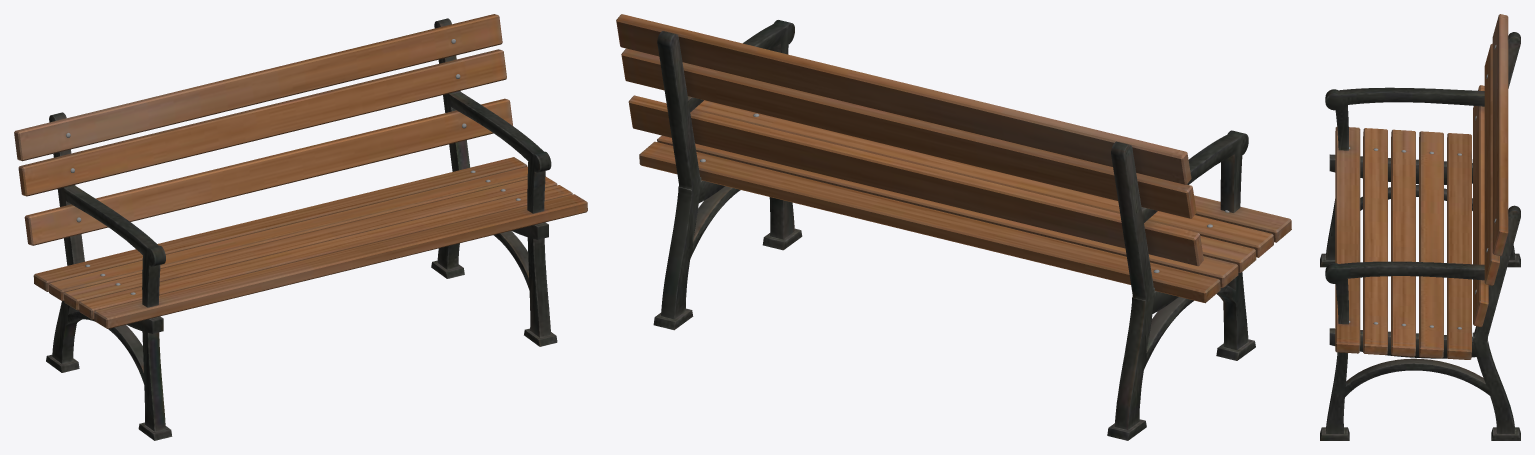
Rendered from park-bench.glb.
The picture shows the model from 3 angles, left to right: view 1: azimuth 30°, elevation 25°; view 2: azimuth 150°, elevation 25°; view 3: azimuth 270°, elevation 25°; orthographic projection. The views are drawn at different scales.
Visible parts, largest first — view 1: park-bench_body; view 2: park-bench_body; view 3: park-bench_body.
Boxes of the visible parts, <box> form: park-bench_body: <box>14,14,587,440</box>; park-bench_body: <box>616,14,1291,440</box>; park-bench_body: <box>1320,14,1520,440</box>.
Bounding box in the file's own units: 1.8 × 0.8843 × 0.7041.
1 material, 1 textured.
